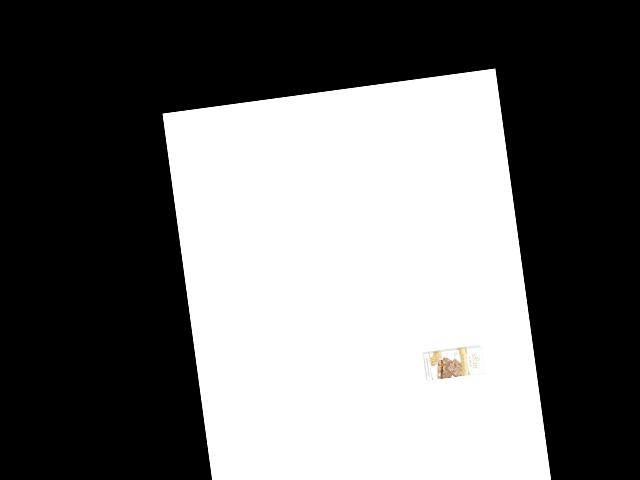chocolate: (420, 342, 487, 382)
